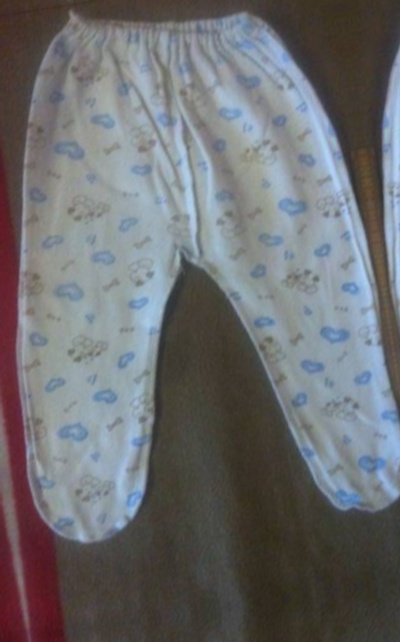Pants: (0, 0, 400, 562), (338, 0, 400, 503), (0, 0, 328, 10)
